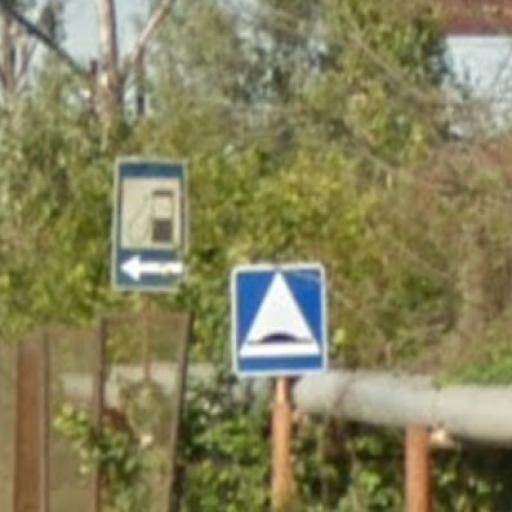traffic_sign: (229, 261, 330, 377), (112, 158, 192, 294)
